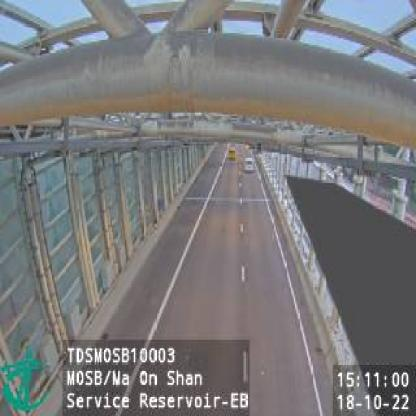Car: (243, 155, 255, 174), (227, 144, 237, 159)
